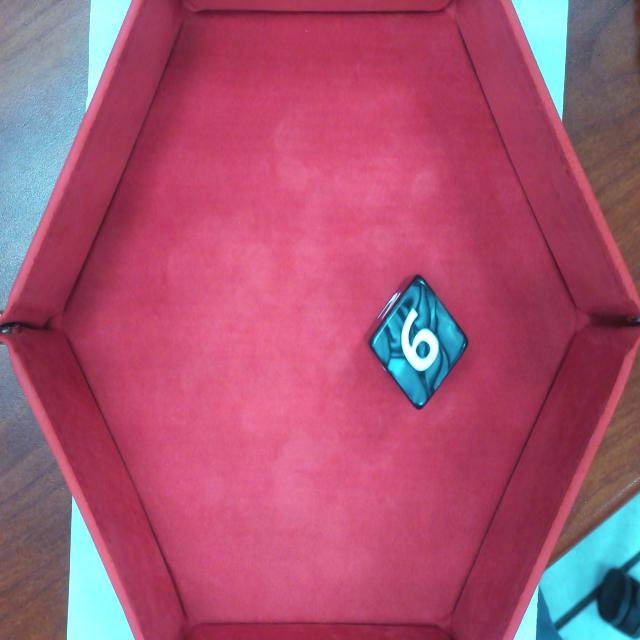dice: (364, 273, 471, 413)
